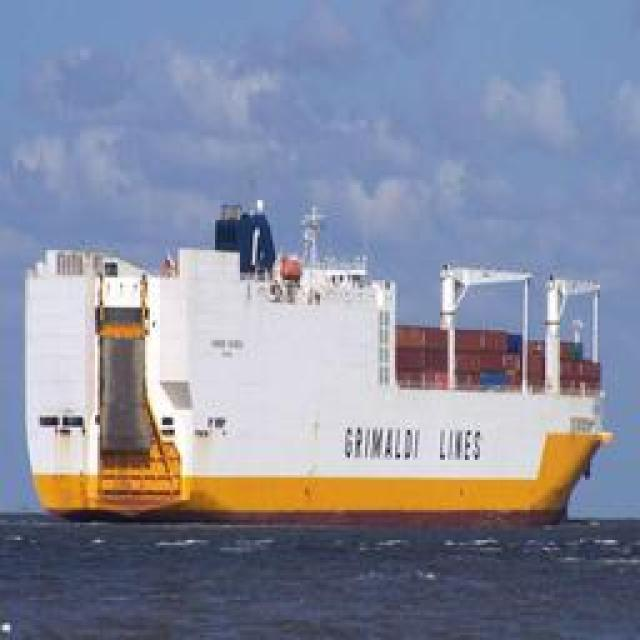ship2: (24, 200, 616, 530)
